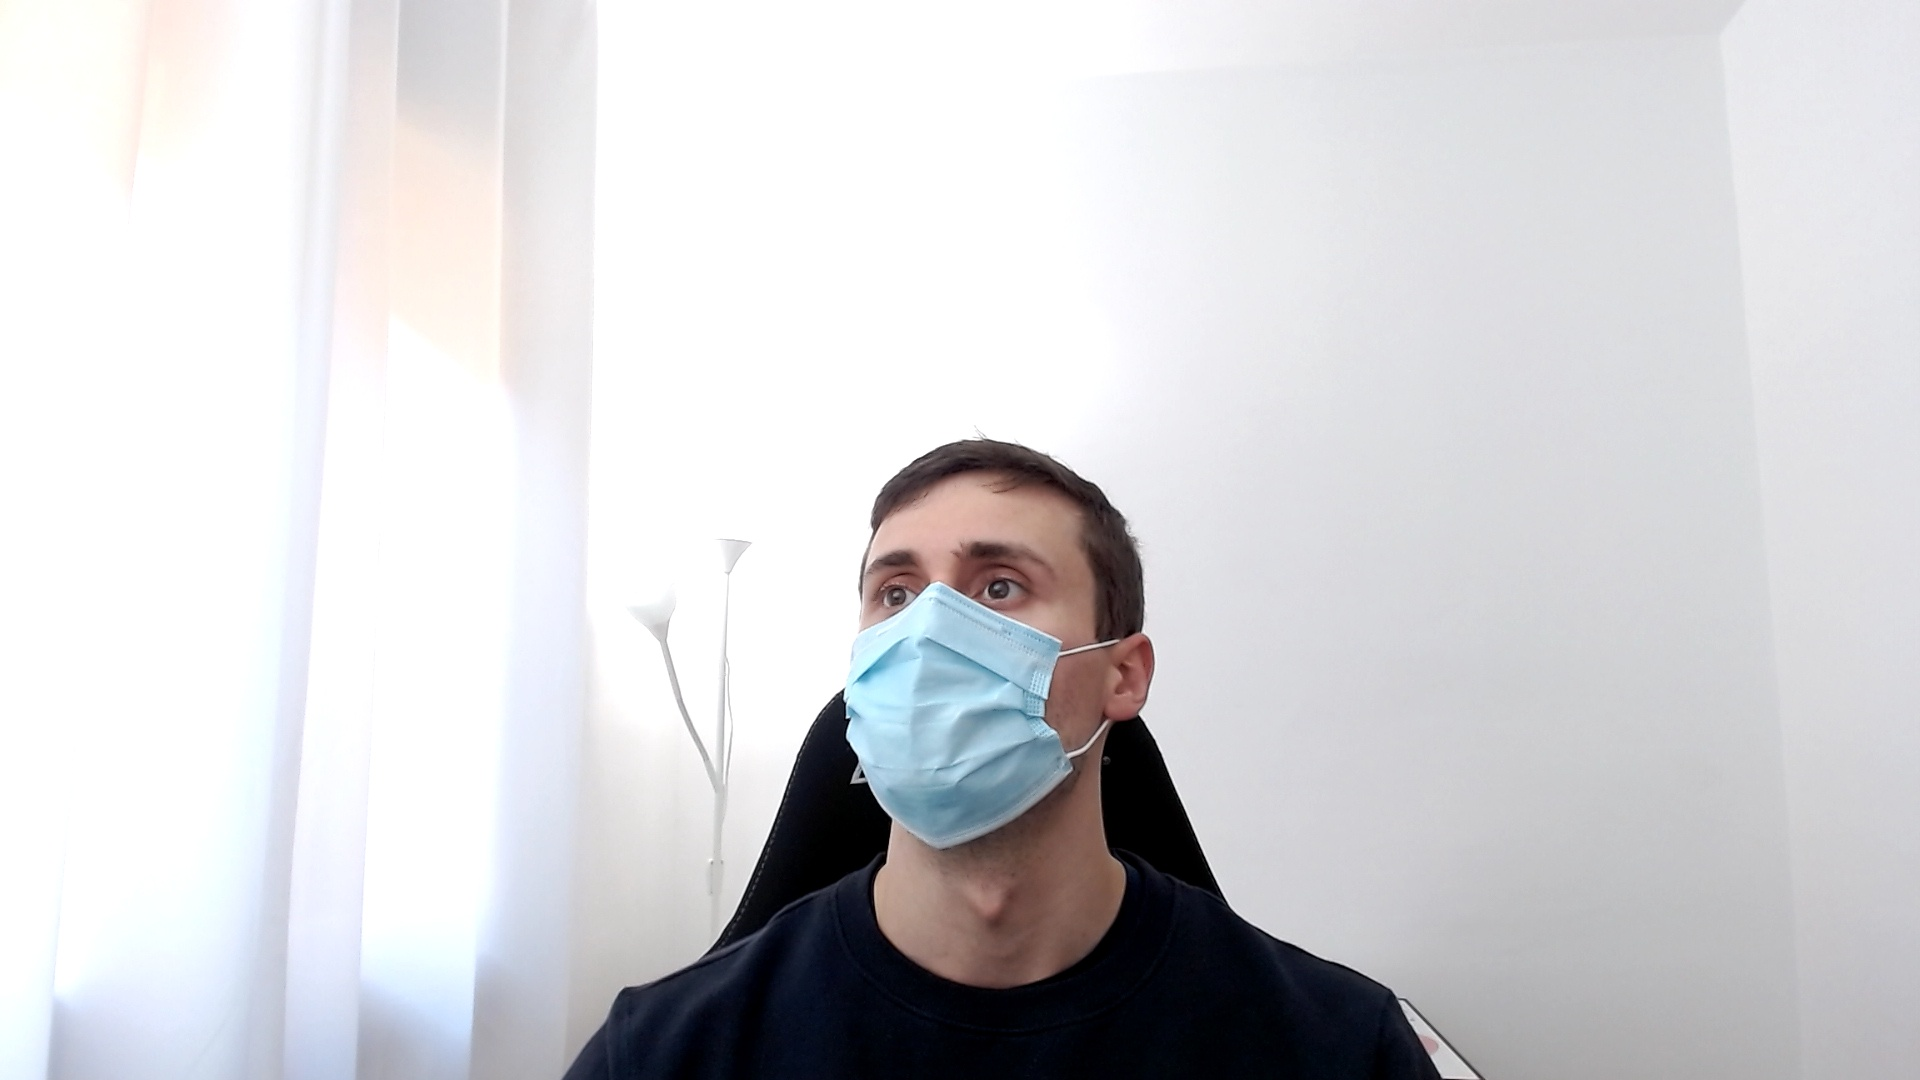Mask: (843, 439, 1156, 853)
